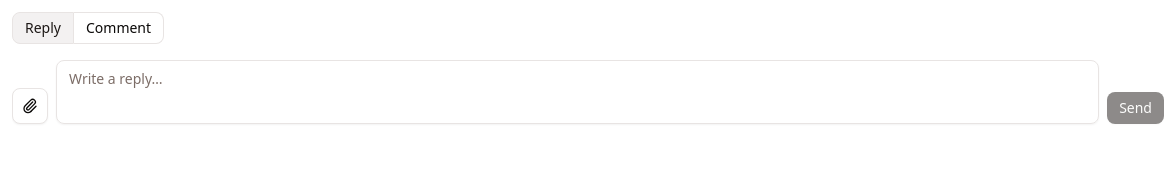
Test: inbox UI contracts › uses exclusive toggle semantics for Reply and Comment
Expected: the radio button labelled "Reply" is checked, [12,12,74,44]
Click the radio button labelled "Comment": (119,28) [74,12,164,44]
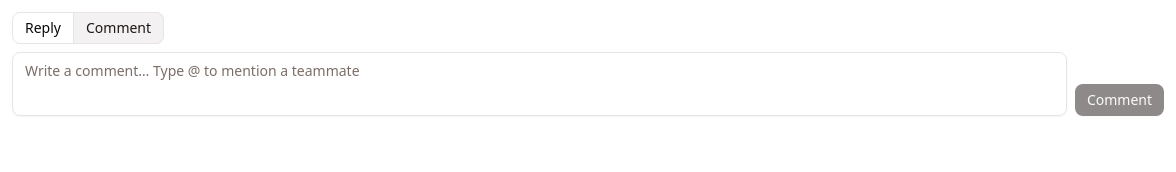
Expected: the radio button labelled "Reply" is not checked, [12,12,74,44]
Now the text box named "Comment text" is shown, box [12,52,1067,116]
